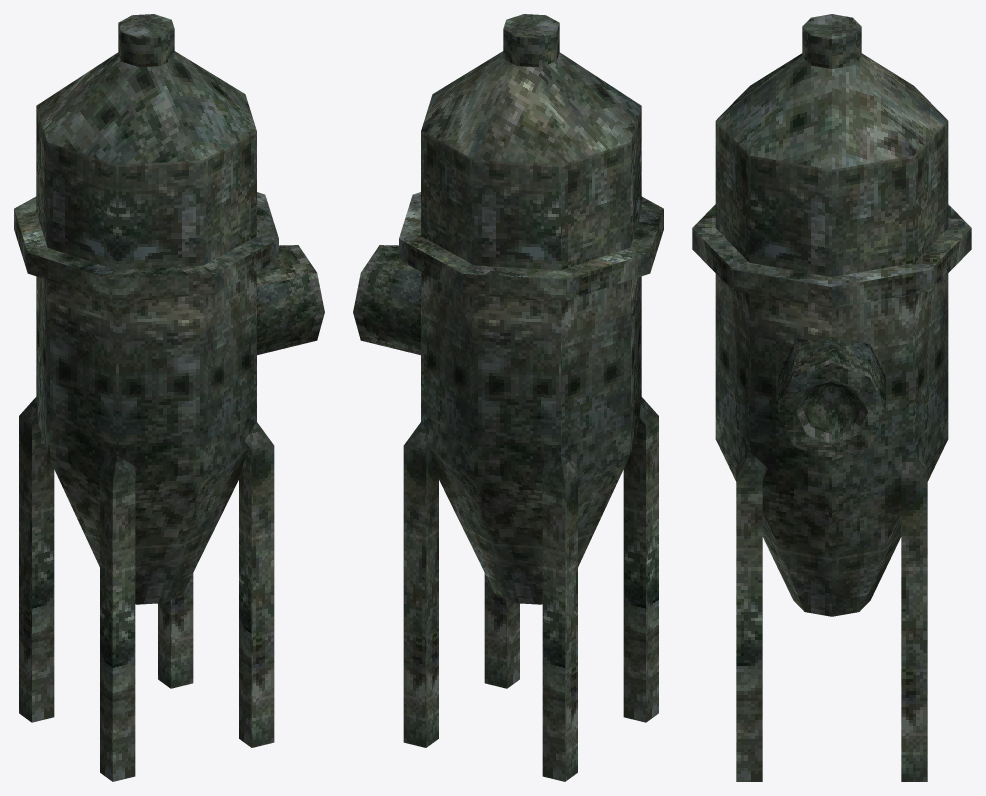
Rendered from Silo.glb.
3 views of the same model, side by side, from view 1: azimuth 30°, elevation 25°; view 2: azimuth 150°, elevation 25°; view 3: azimuth 270°, elevation 25° (orthographic).
Parts seen in each view (by area): view 1: Cylinder; view 2: Cylinder; view 3: Cylinder.
Boxes of the visible parts, box(x1,y1,x2,y2) form: Cylinder: box(14, 14, 324, 781); Cylinder: box(353, 14, 663, 781); Cylinder: box(692, 14, 971, 781).
Bounding box in the file's own units: 2.74 × 6.78 × 2.4.
1 material, 1 textured.
